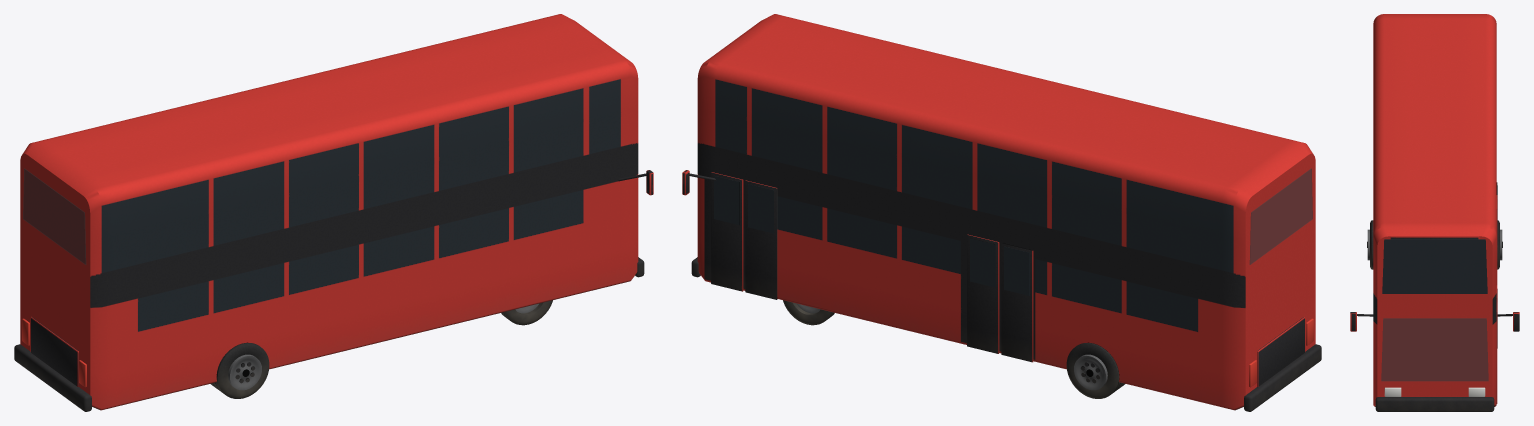
The model's file is onibus-dois-andares.glb.
The picture shows the model from 3 angles, left to right: view 1: azimuth 30°, elevation 25°; view 2: azimuth 150°, elevation 25°; view 3: azimuth 270°, elevation 25°; orthographic projection. The views are drawn at different scales.
Parts seen in each view (by area): view 1: body, glass_rear, bumper_rear, wheel_rr_tire, wheel_rr_rim; view 2: body, glass_rear, bumper_rear, wheel_rl_tire, wheel_rl_rim; view 3: body, glass_windshield, bumper_front, wheel_rr_tire, headlight_left, headlight_right.
Part boxes in pixels (box(x1,y1,x2,y2)): body: box(20, 14, 653, 410); glass_rear: box(23, 168, 86, 264); bumper_rear: box(14, 344, 91, 411); wheel_rr_tire: box(210, 342, 269, 398); wheel_rr_rim: box(228, 354, 261, 390); body: box(682, 14, 1315, 410); glass_rear: box(1249, 168, 1312, 264); bumper_rear: box(1244, 344, 1321, 411); wheel_rl_tire: box(1066, 342, 1125, 398); wheel_rl_rim: box(1074, 354, 1107, 390); body: box(1350, 14, 1519, 406); glass_windshield: box(1381, 318, 1488, 381); bumper_front: box(1375, 397, 1494, 411); wheel_rr_tire: box(1370, 220, 1373, 269); headlight_left: box(1468, 387, 1485, 396); headlight_right: box(1384, 387, 1401, 396).
Size of what is drawn, in the model's own units: 10.84 by 4.4 by 3.44.
6 materials, 5 textured.
